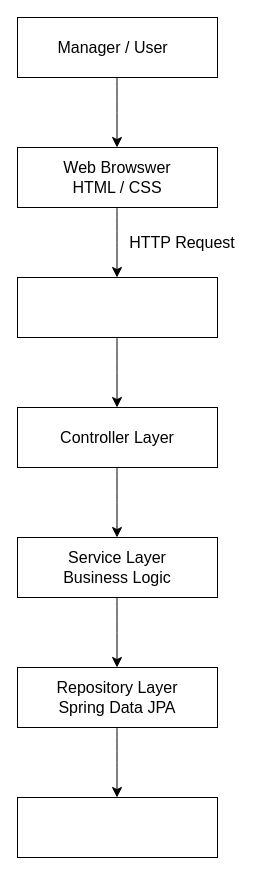
Image size: 265x875. Some labels were removed from this diagram. The shapes that lost their labels are listed below. From the top down, each one's centre as x and y in pixels, then its label:
point (117, 307): Render Cloud Spring Boot Web App
point (117, 827): Render PostgreSQL Database
